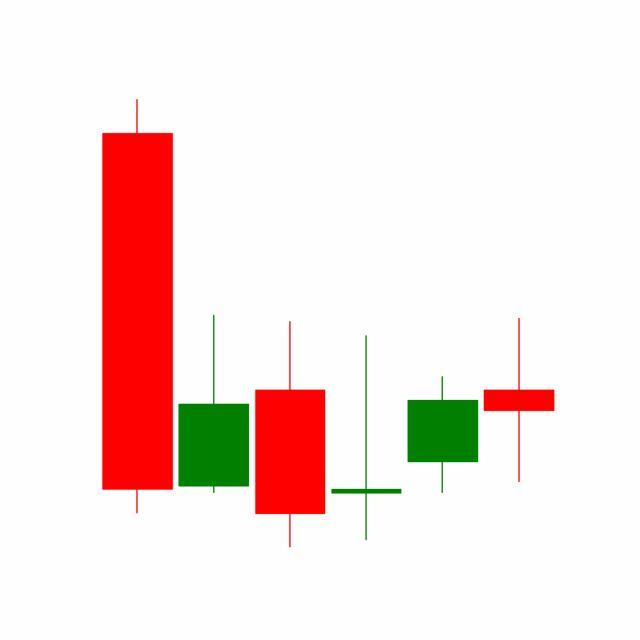Hikkake Pattern: (175, 311, 555, 548)
